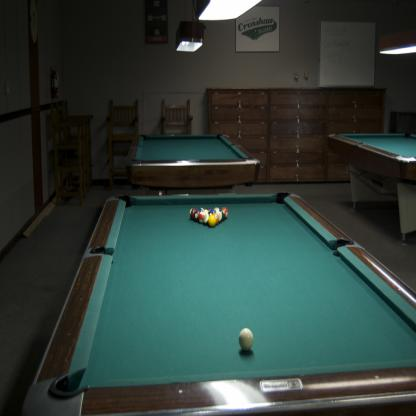Ball: (190, 208, 228, 227), (239, 326, 254, 354)
